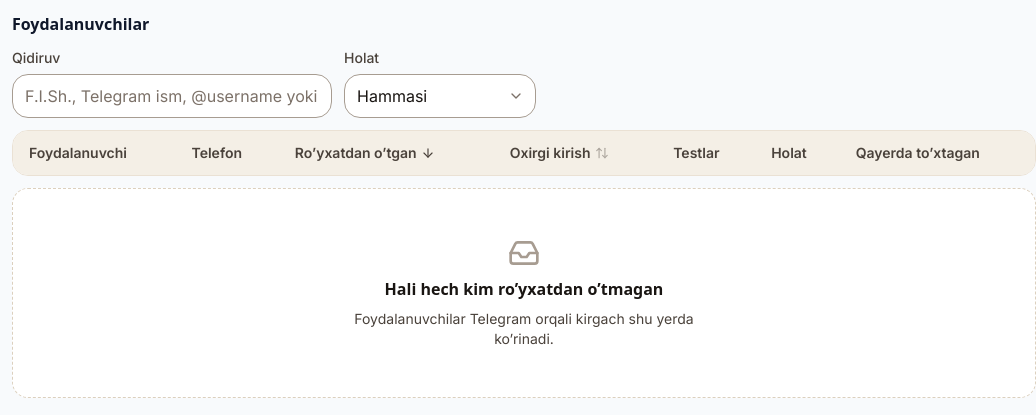
Test: PublicSpaceUsersSection › filtr faol bo'lib hech kim topilmasa boshqa bo'sh matn ko'rsatiladi
The image size is (1036, 415).
Expected: the text "Hali hech kim ro’yxatdan o’tmagan" is shown, [385,277,663,301]
Select "Tugallangan" in the dropdown labelled "Holat" at {"x": 440, "y": 96}, box [344,74,536,118]
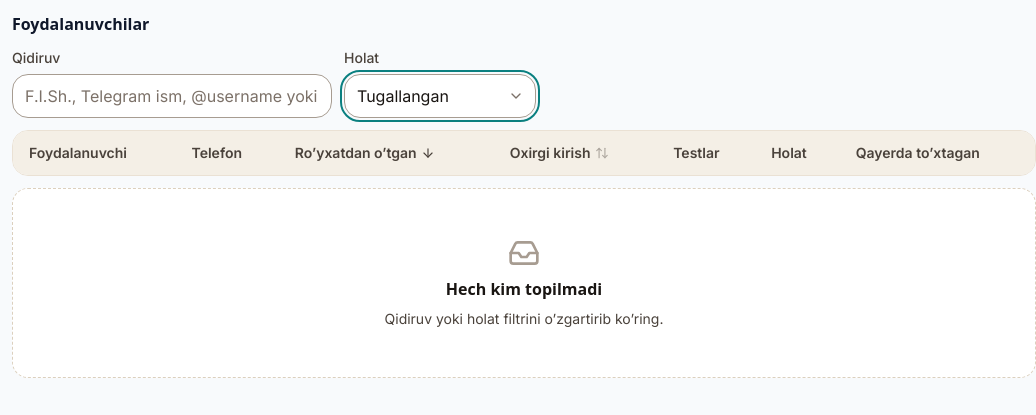
Now the text "Hech kim topilmadi" is shown, box [446,277,602,301]
